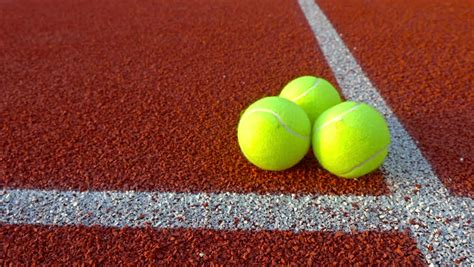tennis_ball: (312, 101, 390, 178), (237, 96, 312, 172), (278, 76, 342, 125)
